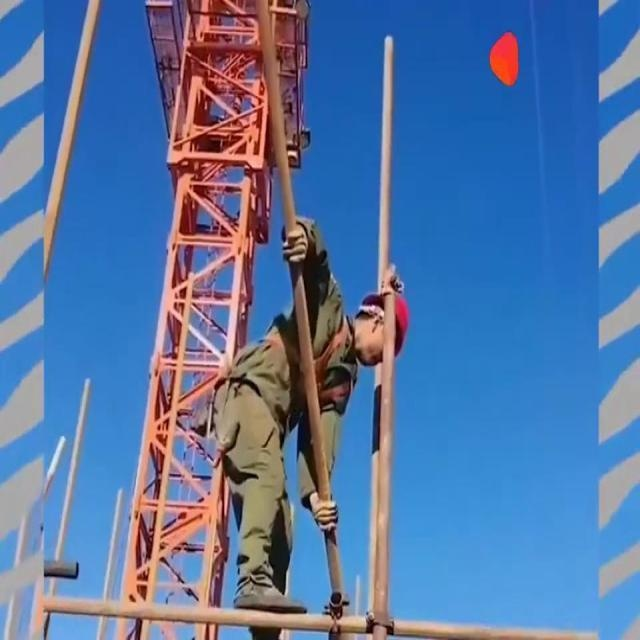Arnes_seguridad: (259, 301, 359, 422)
